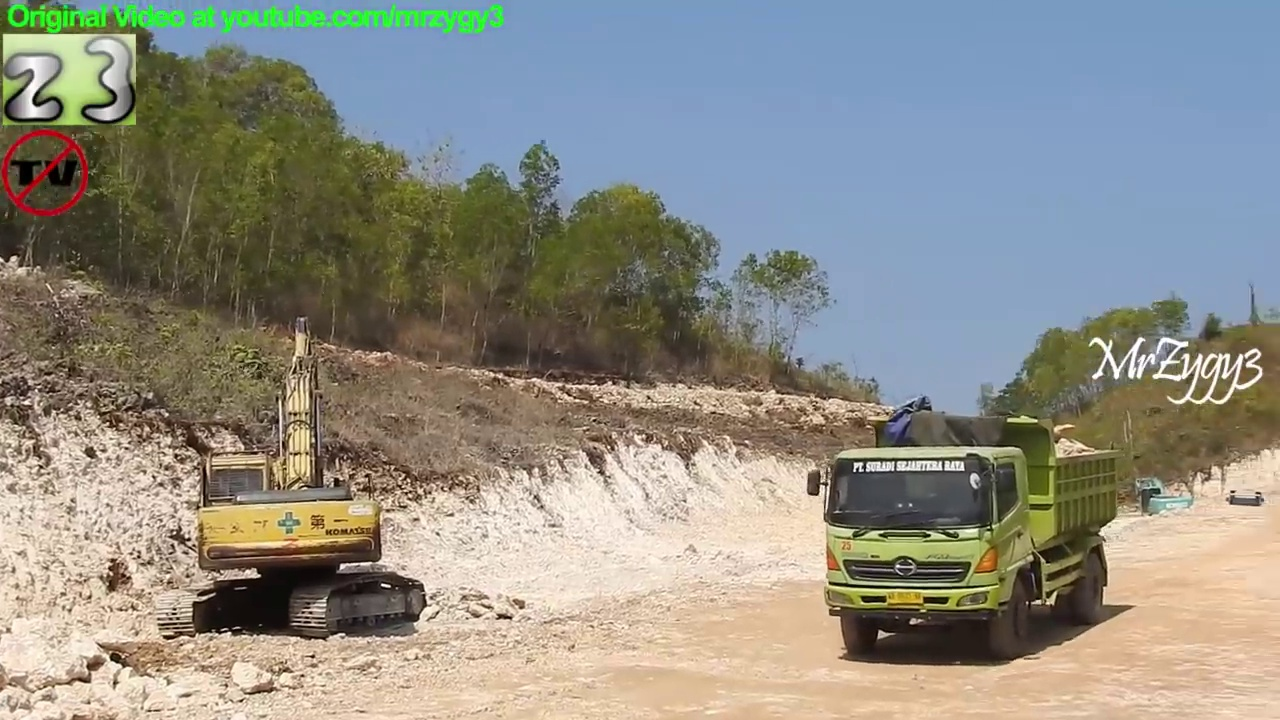excavator: (1130, 471, 1199, 528)
excavator breaker: (146, 310, 431, 644)
truck: (802, 410, 1126, 664), (1222, 485, 1269, 533)
